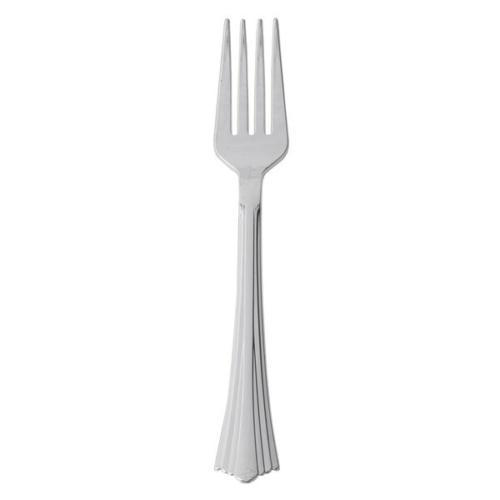Fork: (212, 16, 288, 485)
